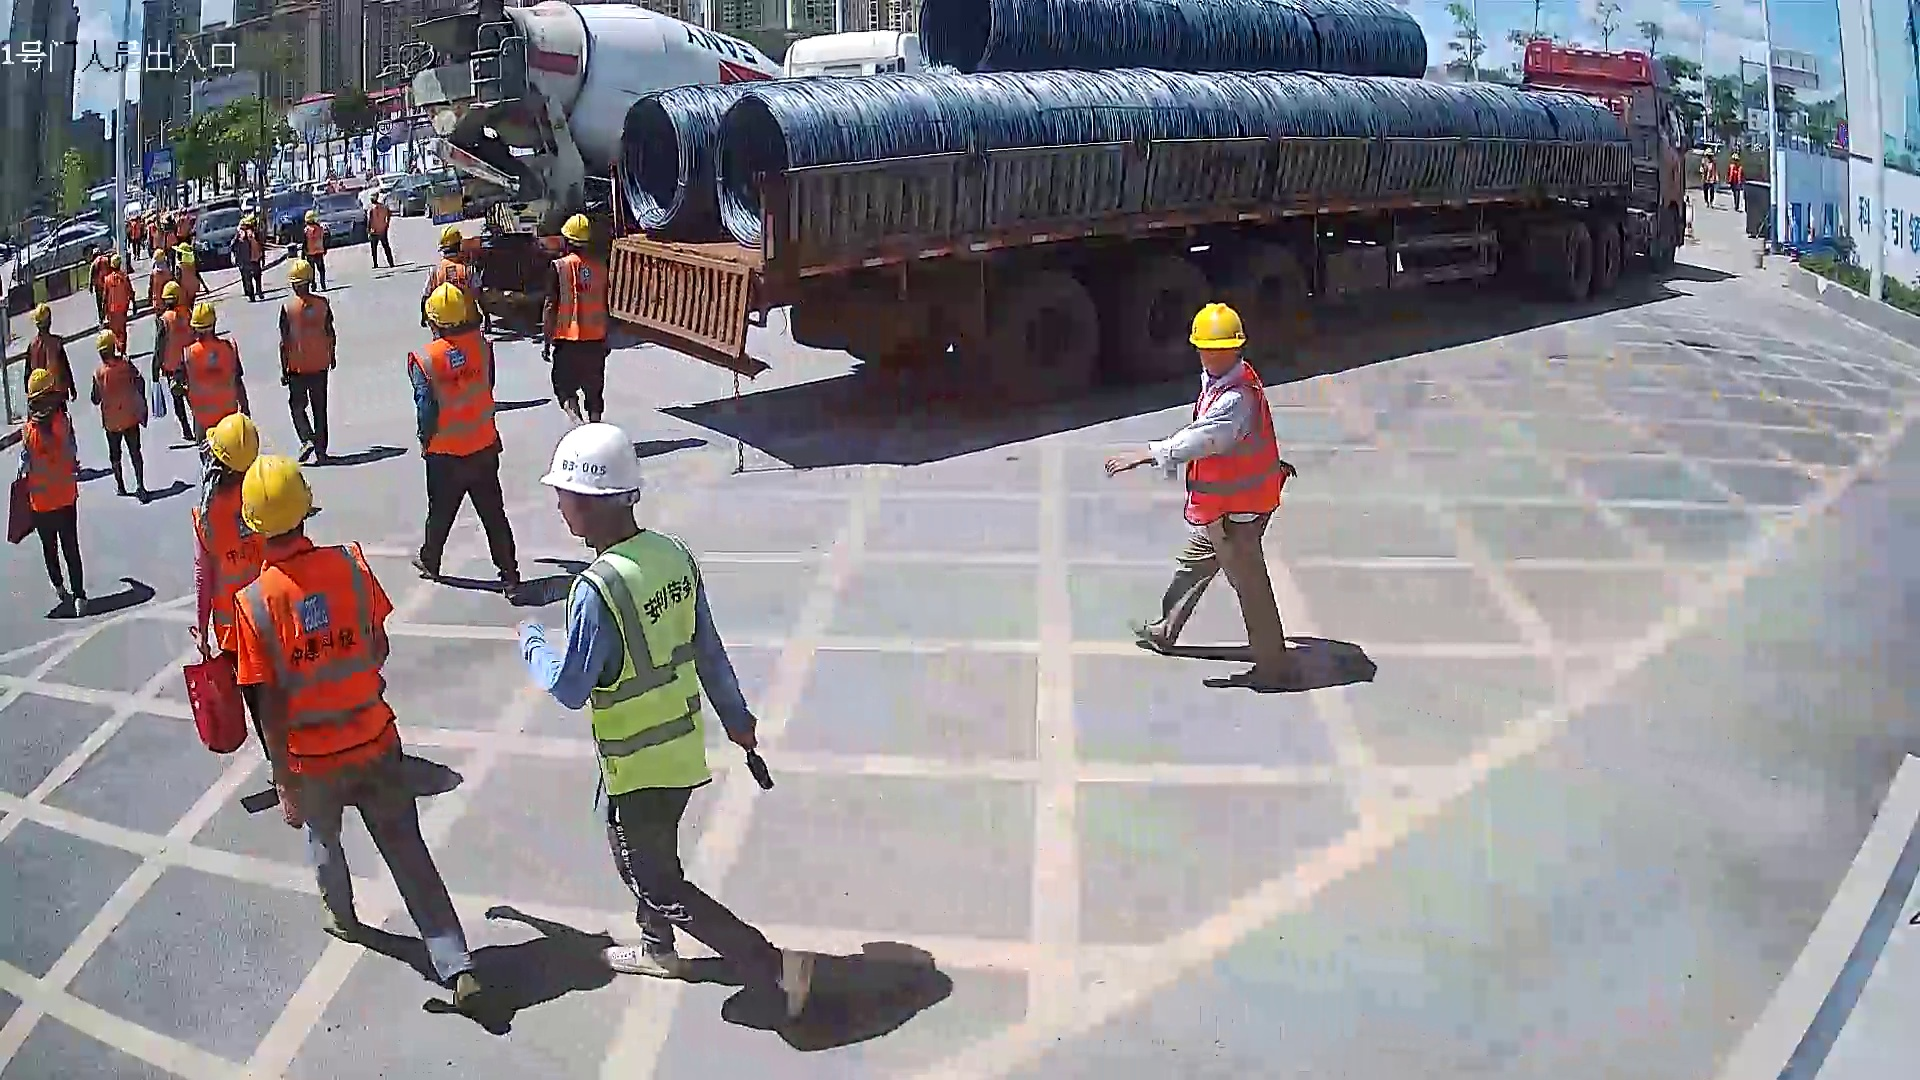person: (513, 419, 820, 1021), (233, 444, 495, 1017), (1102, 296, 1306, 694), (401, 277, 527, 607), (190, 409, 271, 782), (21, 365, 88, 617), (540, 210, 611, 426), (275, 253, 341, 464), (182, 298, 252, 465), (90, 326, 151, 504), (23, 302, 78, 406)
reflective_vest: (569, 527, 715, 797), (233, 539, 399, 759), (1181, 361, 1283, 527), (189, 483, 265, 650), (405, 330, 500, 456), (22, 411, 79, 512), (548, 252, 608, 341), (183, 336, 238, 429), (92, 357, 148, 434), (283, 292, 331, 375), (27, 332, 68, 392), (157, 308, 192, 371), (427, 258, 476, 292)
safety_helmet: (534, 420, 651, 548), (239, 451, 316, 544), (1187, 296, 1249, 379), (200, 411, 263, 486), (422, 278, 468, 338), (26, 366, 57, 417), (558, 211, 593, 253), (432, 221, 466, 257), (189, 299, 219, 337), (286, 254, 316, 291), (94, 326, 118, 361), (32, 301, 52, 334), (161, 279, 183, 308)
